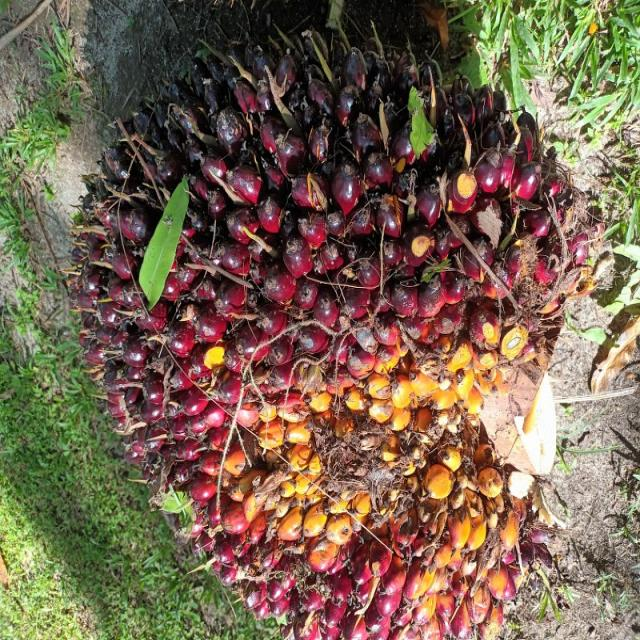fraksi 1: (76, 0, 592, 602)
